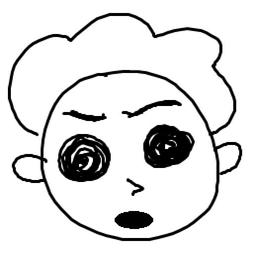ear: (10, 151, 45, 187), (212, 140, 243, 177)
eye: (55, 132, 116, 184), (139, 119, 197, 171)
eyebrow: (125, 94, 184, 117), (59, 105, 108, 123)
open_mouth: (112, 207, 158, 231)
pointy_nose: (119, 174, 149, 196)
